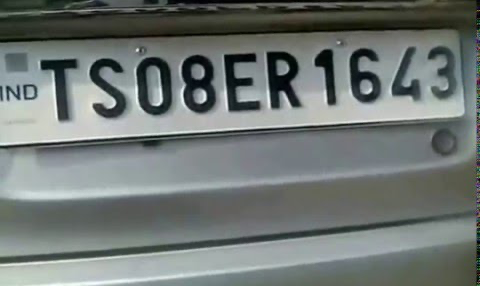TS08ER1643: (1, 27, 466, 147)
